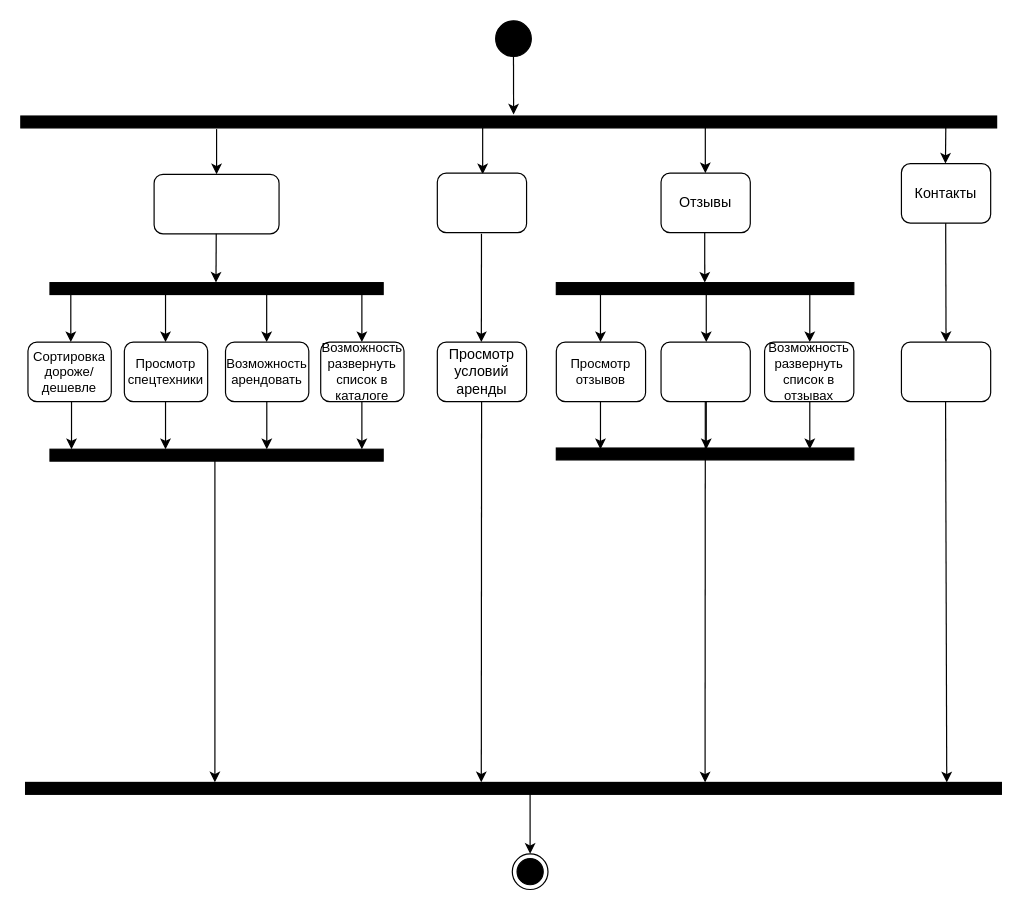
This 1022x910 diagram has some shape labels left out. The shapes that lost their labels are listed below. From the top down, each one's box as (x1, y1, x2, y2) in pixels, then its label:
(153, 173, 279, 234): Каталог
(436, 172, 527, 233): Аренда
(660, 341, 750, 402): Добавить отзыв
(900, 341, 991, 402): Просмотр контактов
